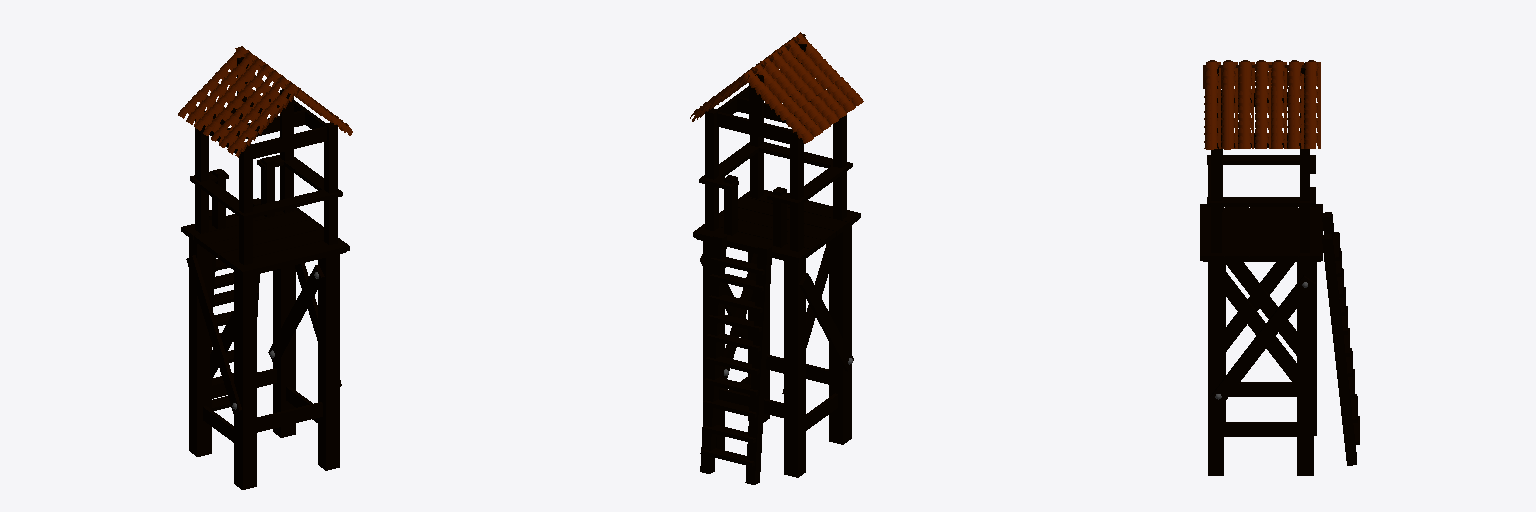
File: archer_tower.obj
The picture shows the model from 3 angles: view 1: azimuth 30°, elevation 25°; view 2: azimuth 150°, elevation 25°; view 3: azimuth 270°, elevation 25°; orthographic projection.
Visible parts, largest first — view 1: Archer_tower; view 2: Archer_tower; view 3: Archer_tower.
Boxes of the visible parts, box(x1,y1,x2,y2) form: Archer_tower: box(178, 46, 352, 489); Archer_tower: box(690, 32, 863, 484); Archer_tower: box(1200, 60, 1359, 475).
Size of the model in its own units: 4.45 by 13.63 by 5.03.